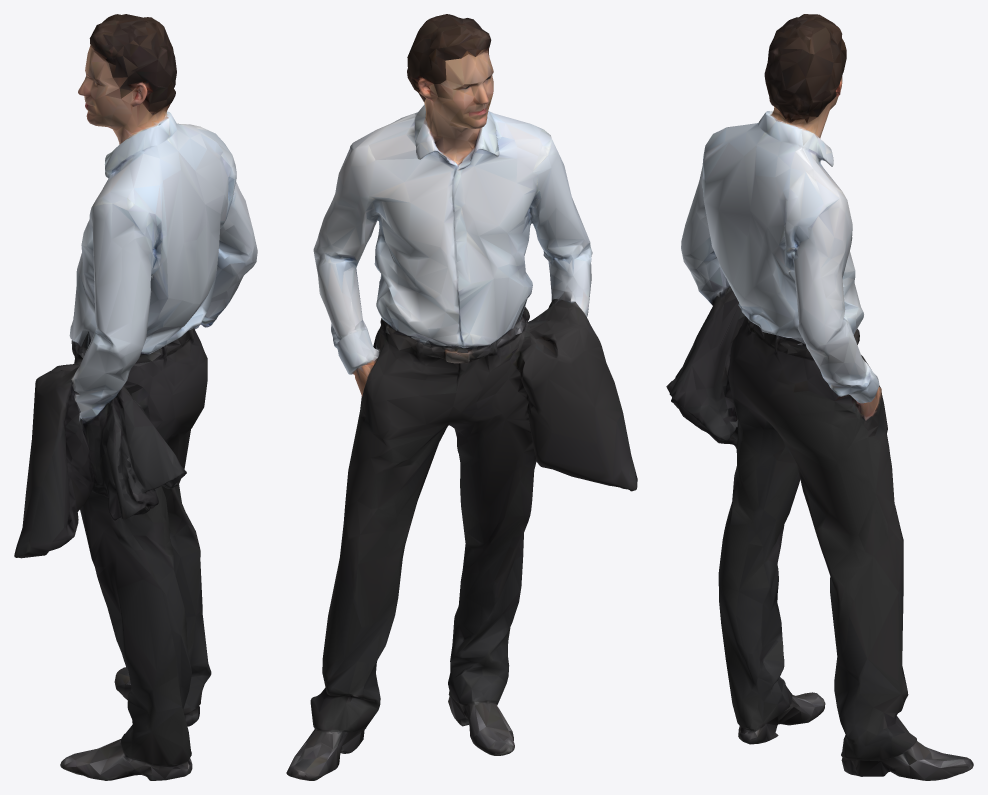
Rendered from ren1.gltf.
3 renders of one model, left to right at view 1: azimuth 30°, elevation 25°; view 2: azimuth 150°, elevation 25°; view 3: azimuth 270°, elevation 25°, orthographic. The views are drawn at different scales.
Parts seen in each view (by area): view 1: Obj3d66-515503-7-250; view 2: Obj3d66-515503-7-250; view 3: Obj3d66-515503-7-250.
Boxes of the visible parts, left/top/right/bottom form: Obj3d66-515503-7-250: left=14, top=14, right=257, bottom=780; Obj3d66-515503-7-250: left=286, top=14, right=637, bottom=780; Obj3d66-515503-7-250: left=666, top=14, right=973, bottom=780.
Size of the model in its own units: 7.28 by 18.2 by 7.07.
Materials: 1 (1 with a texture image).
